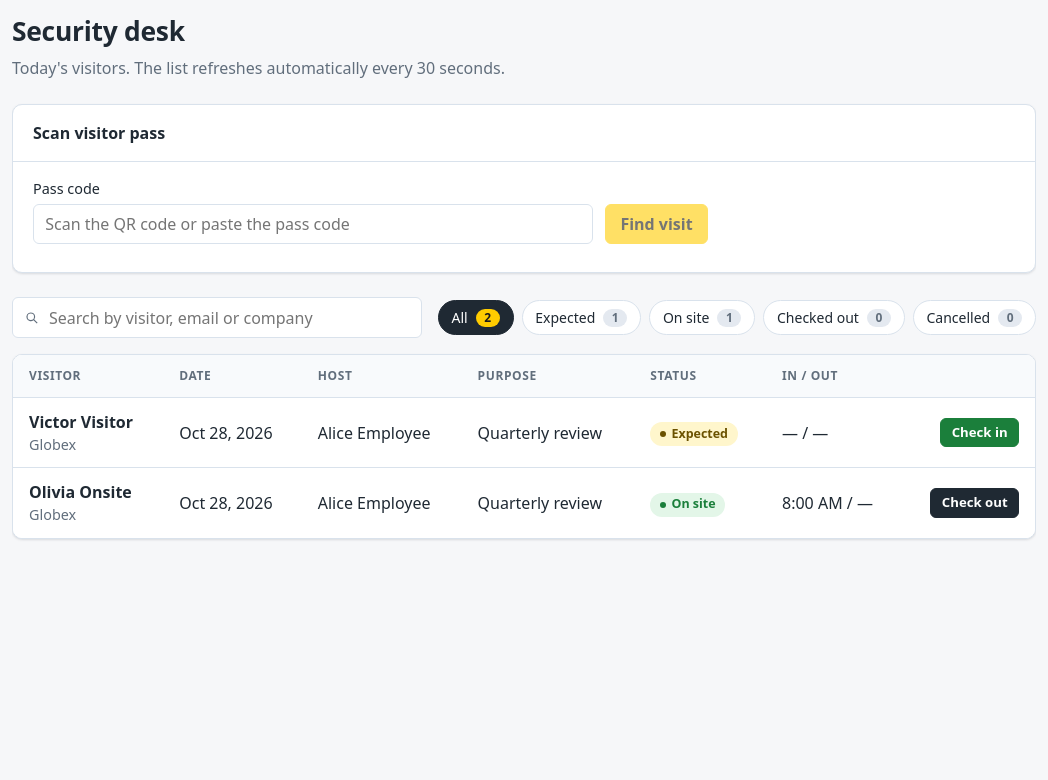
Test case: TodayVisitsPage visitor pass scanning › shows a clear error for an invalid pass
Type "VP1-FORGED" into the field labelled "Pass code".
click(313, 224); type("VP1-FORGED")  # box left=33, top=204, right=593, bottom=244
Then press Enter
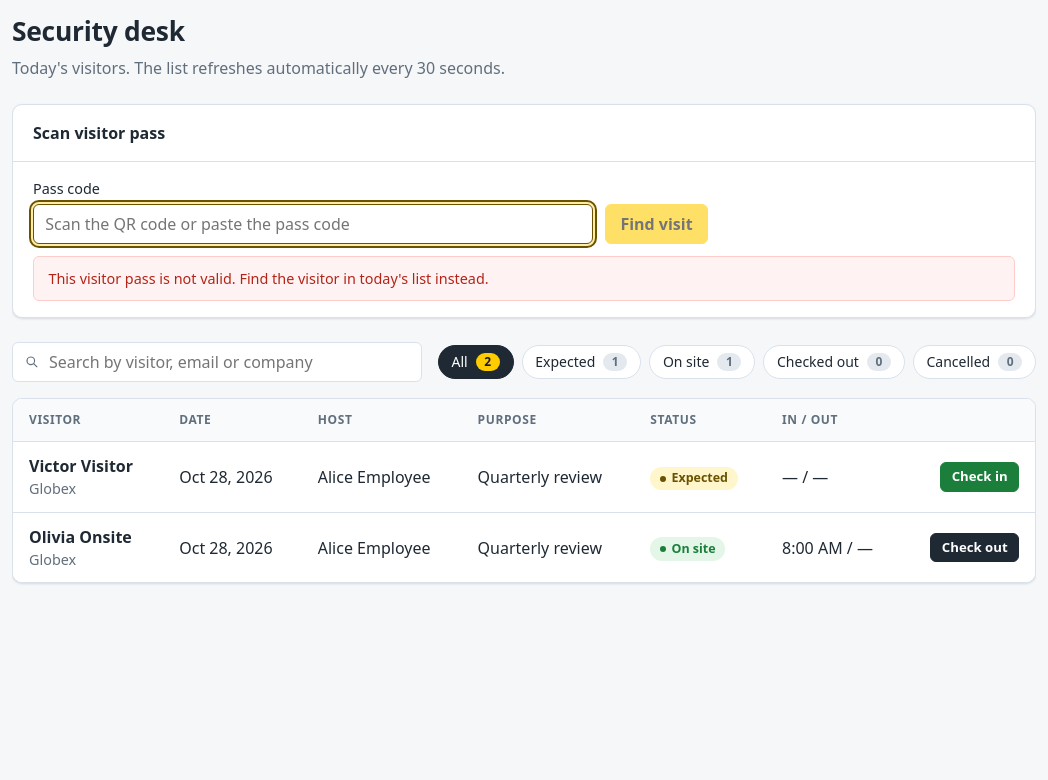
Now the message reads "This visitor pass is not valid. Find the visitor in today's list instead.", box left=48, top=269, right=489, bottom=288
